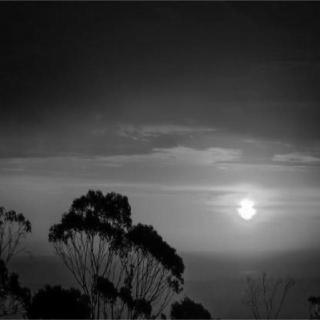other: (217, 180, 275, 238)
